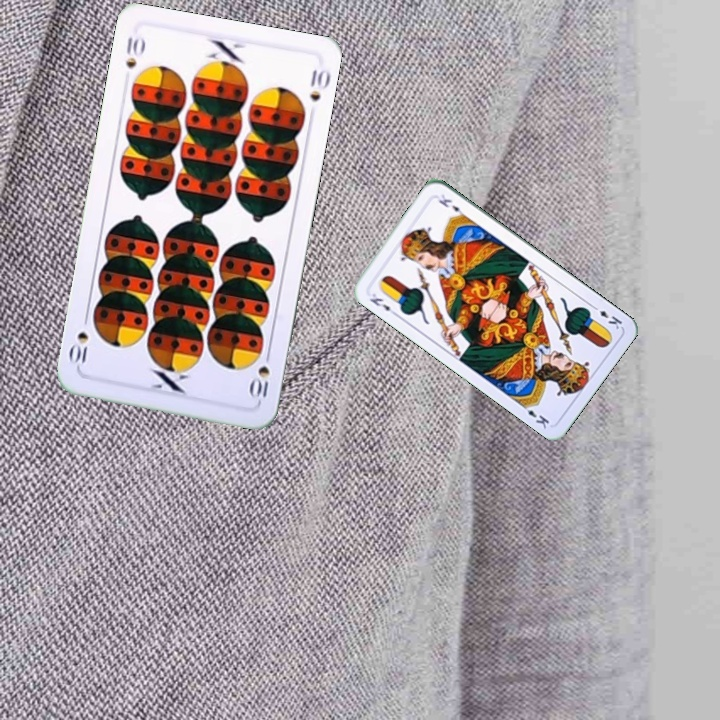EK: (588, 301, 625, 332), (364, 287, 399, 317)
S10: (246, 346, 273, 404), (122, 33, 147, 71)
